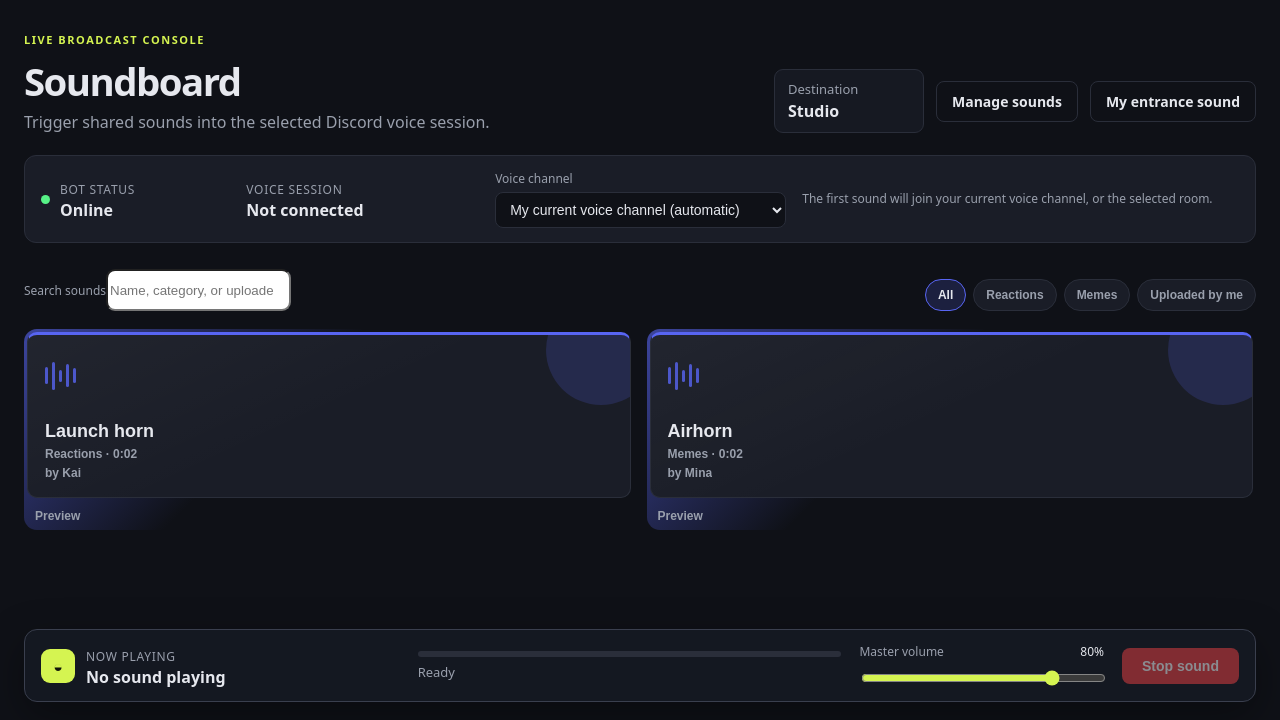
Test: Soundboard › renders an empty state when filters remove every sound
The image size is (1280, 720).
Type "does-not-exist" into the search field labelled "Search sounds" at (199, 290), box [106, 269, 291, 311]
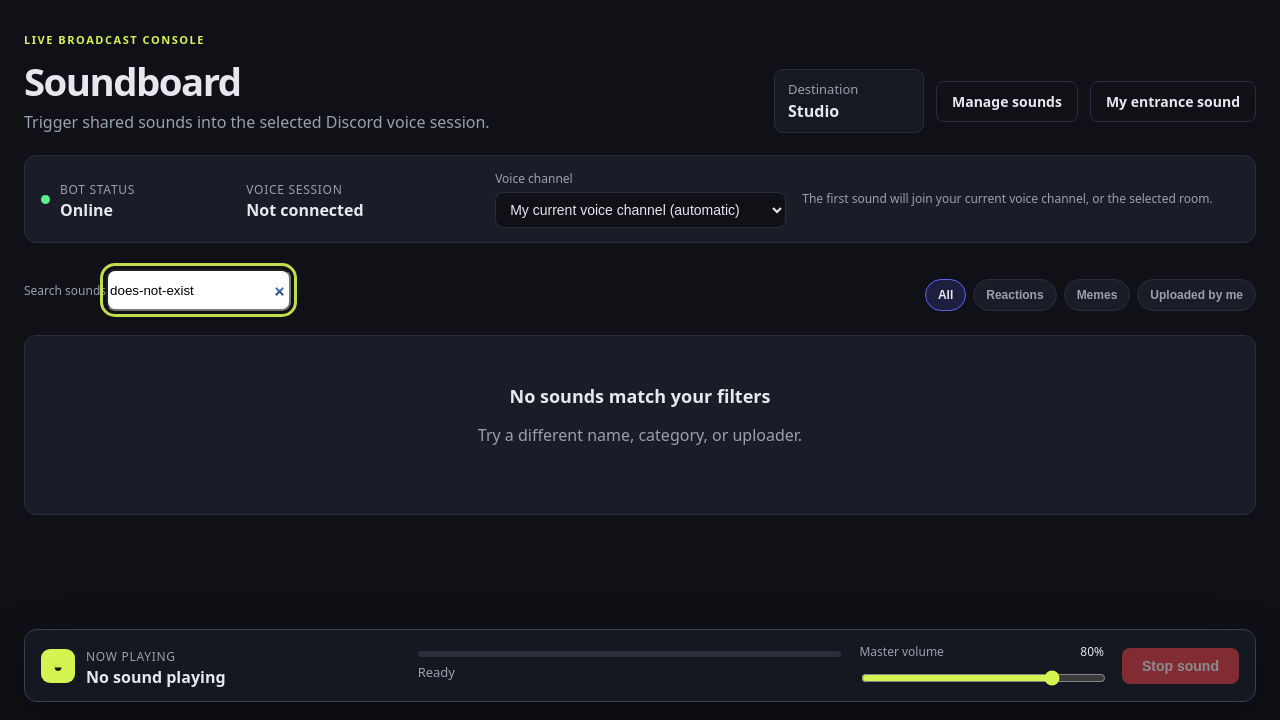
Expected: the heading "No sounds match your filters" is shown, [510, 384, 770, 408]
